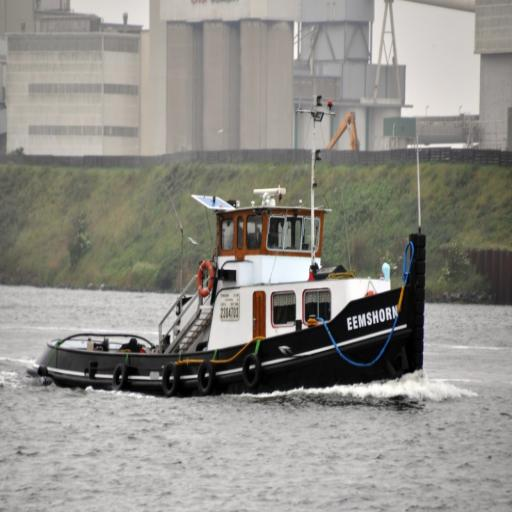tugboat: (24, 73, 432, 417)
